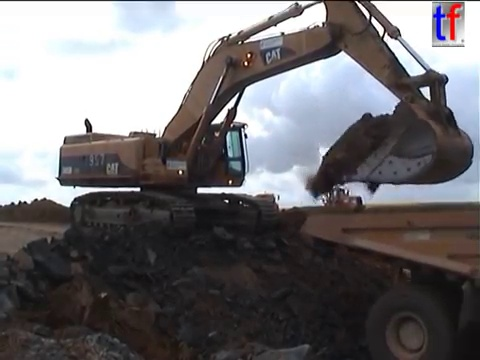excavator: (53, 1, 478, 246)
truck: (296, 199, 480, 360)
wheel loader: (305, 175, 366, 216)
